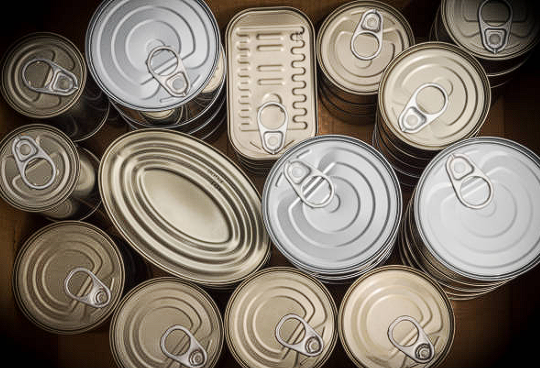Intacto: (96, 123, 271, 282), (262, 141, 400, 266), (422, 143, 540, 279), (91, 0, 225, 105), (227, 9, 319, 161), (340, 269, 457, 366), (225, 269, 334, 366), (109, 278, 225, 368), (19, 227, 119, 329), (384, 47, 493, 139), (319, 4, 409, 88), (0, 121, 82, 202), (4, 37, 87, 113), (443, 0, 536, 61)
